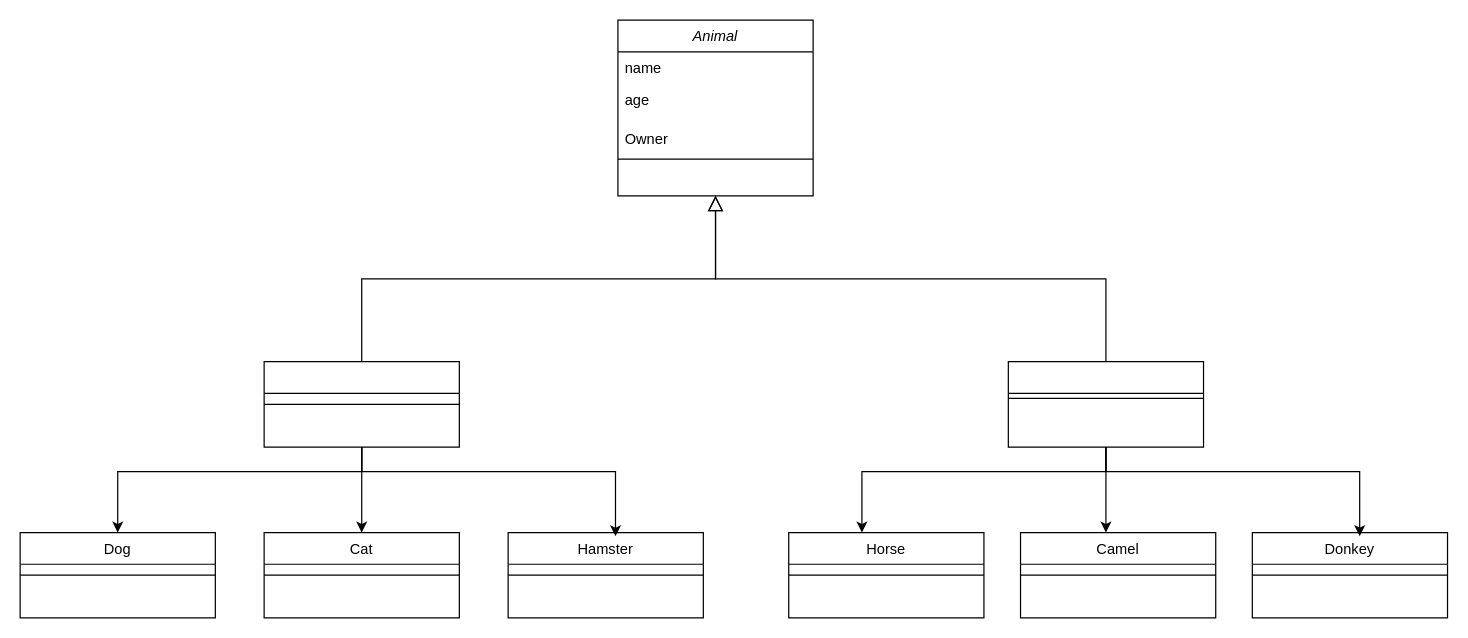
The diagram is 1468 pixels wide and 638 high, and some of its shapes have lost their labels. The shapes that lost their labels are listed below. From the top down, each one's centre as x and y in pixels, then its label:
At point 361,404: "DomesticAnimal".
At point 1105,404: "PackAnimal".
